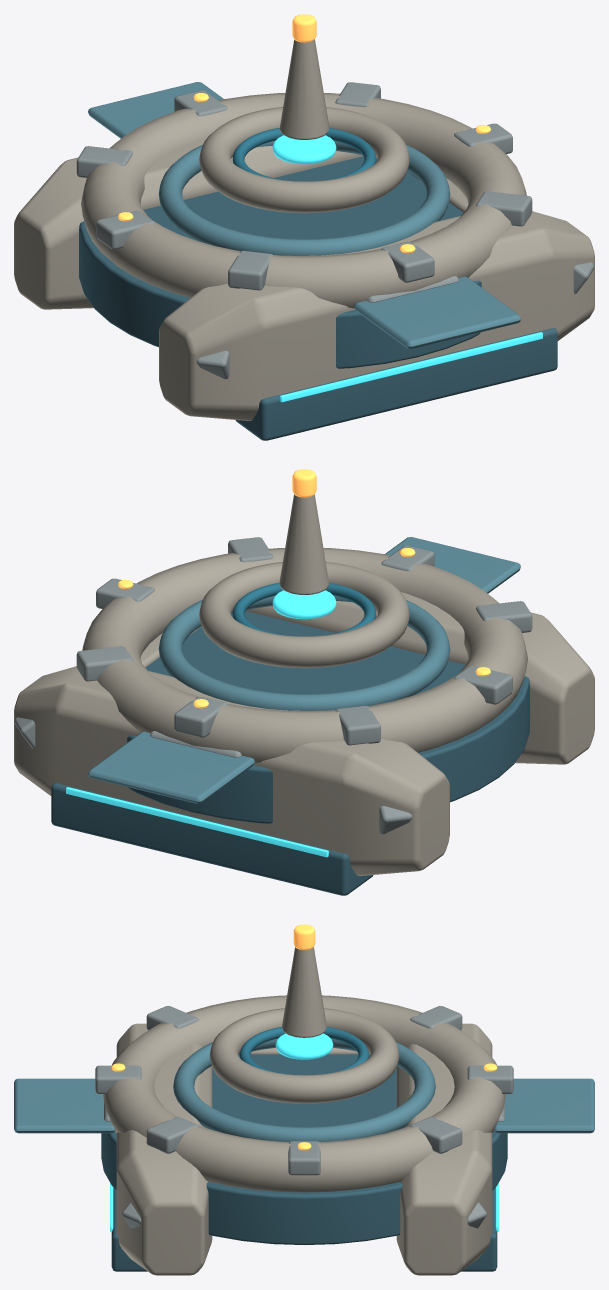
The model's file is auto_explore.glb.
The picture shows the model from 3 angles, top to bottom: view 1: azimuth 30°, elevation 25°; view 2: azimuth 150°, elevation 25°; view 3: azimuth 270°, elevation 25°; orthographic projection. The views are drawn at different scales.
Parts seen in each view (by area): view 1: Shared-ring pressure haunch, Ivory annular pressure rim, Radial bearing lower drum, Shared-ring pressure haunch.001, Continuous dark lower course, Rotating open habitat collar, Blue inner bearing race, Folded solar vane, Station slender command mast, Folded solar vane.001, Outer service seam, Rotating inner glass (+11 smaller); view 2: Shared-ring pressure haunch.001, Ivory annular pressure rim, Radial bearing lower drum, Shared-ring pressure haunch, Continuous dark lower course.001, Rotating open habitat collar, Blue inner bearing race, Folded solar vane.001, Station slender command mast, Folded solar vane, Outer service seam.001, Rotating inner glass (+11 smaller); view 3: Ivory annular pressure rim, Radial bearing lower drum, Shared-ring pressure haunch, Shared-ring pressure haunch.001, Rotating open habitat collar, Blue inner bearing race, Folded solar vane, Folded solar vane.001, Station slender command mast, Rotating inner glass, Circular command lens, Bearing radial armor key.001 (+9 smaller).
Part boxes in pixels (left/top/right/bottom): Shared-ring pressure haunch: left=159, top=211, right=594, bottom=420; Ivory annular pressure rim: left=81, top=93, right=526, bottom=308; Radial bearing lower drum: left=79, top=156, right=481, bottom=368; Shared-ring pressure haunch.001: left=14, top=137, right=362, bottom=309; Continuous dark lower course: left=235, top=328, right=557, bottom=440; Rotating open habitat collar: left=199, top=107, right=409, bottom=213; Blue inner bearing race: left=158, top=141, right=450, bottom=255; Folded solar vane: left=354, top=276, right=520, bottom=348; Station slender command mast: left=279, top=39, right=329, bottom=139; Folded solar vane.001: left=88, top=82, right=223, bottom=138; Outer service seam: left=280, top=332, right=542, bottom=402; Rotating inner glass: left=232, top=127, right=376, bottom=180; Shared-ring pressure haunch.001: left=14, top=666, right=449, bottom=875; Ivory annular pressure rim: left=82, top=548, right=527, bottom=763; Radial bearing lower drum: left=127, top=611, right=529, bottom=823; Shared-ring pressure haunch: left=246, top=592, right=594, bottom=764; Continuous dark lower course.001: left=51, top=783, right=373, bottom=895; Rotating open habitat collar: left=199, top=562, right=409, bottom=668; Blue inner bearing race: left=158, top=596, right=450, bottom=710; Folded solar vane.001: left=88, top=731, right=254, bottom=803; Station slender command mast: left=279, top=494, right=329, bottom=594; Folded solar vane: left=385, top=537, right=520, bottom=593; Outer service seam.001: left=66, top=787, right=328, bottom=857; Rotating inner glass: left=232, top=582, right=376, bottom=635; Ivory annular pressure rim: left=103, top=995, right=505, bottom=1192; Radial bearing lower drum: left=101, top=1054, right=507, bottom=1244; Shared-ring pressure haunch: left=116, top=1023, right=212, bottom=1275; Shared-ring pressure haunch.001: left=396, top=1023, right=492, bottom=1275; Rotating open habitat collar: left=209, top=1008, right=399, bottom=1103; Blue inner bearing race: left=173, top=1038, right=435, bottom=1141; Folded solar vane: left=14, top=1078, right=114, bottom=1133; Folded solar vane.001: left=494, top=1078, right=594, bottom=1133; Station slender command mast: left=282, top=947, right=326, bottom=1037; Rotating inner glass: left=239, top=1027, right=369, bottom=1074; Circular command lens: left=275, top=1033, right=333, bottom=1059; Bearing radial armor key.001: left=410, top=1117, right=462, bottom=1153.
Size of the model in its own units: 2.2 by 1.62 by 3.03.
